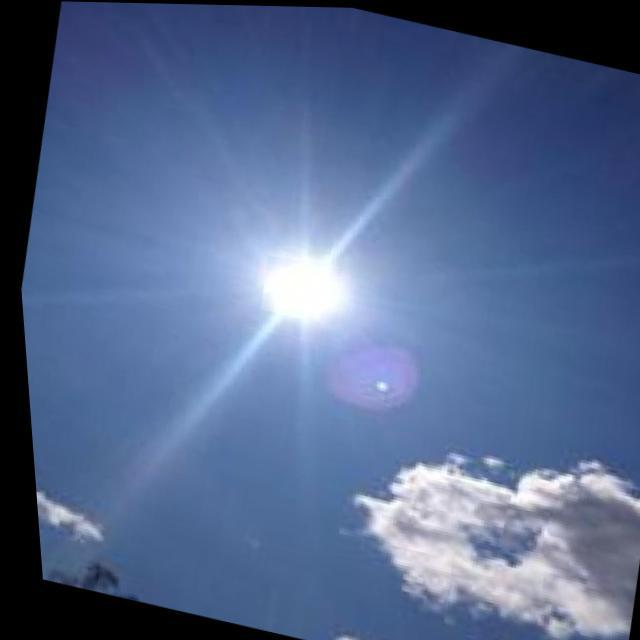sun: (258, 257, 337, 319)
